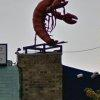Statue: (24, 0, 81, 52)
